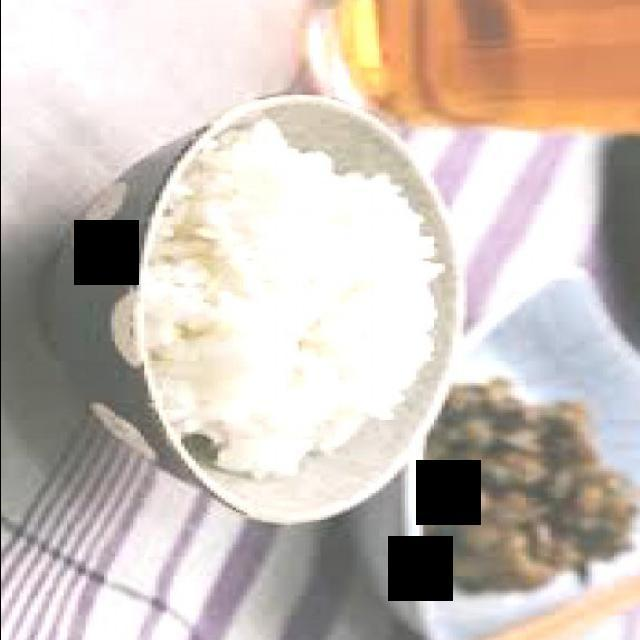Chicken -Chicken Inasal-: (141, 118, 446, 475)
